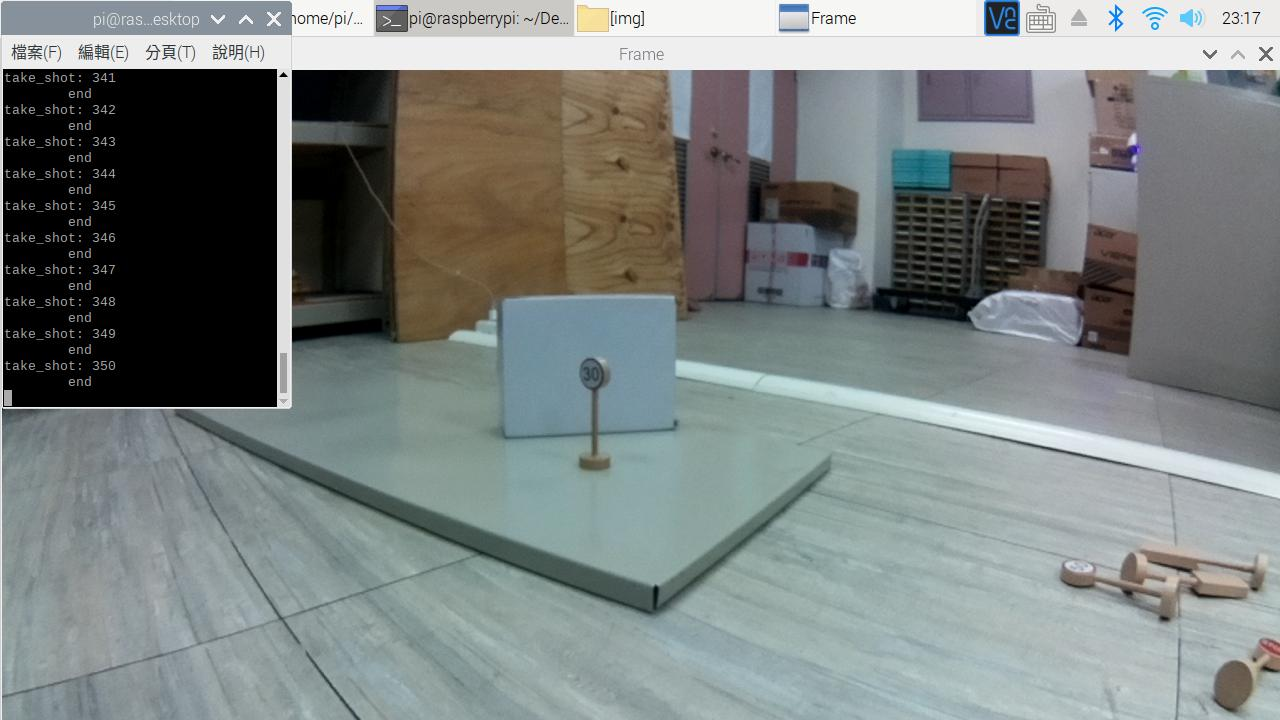Speed30: (570, 348, 621, 400)
